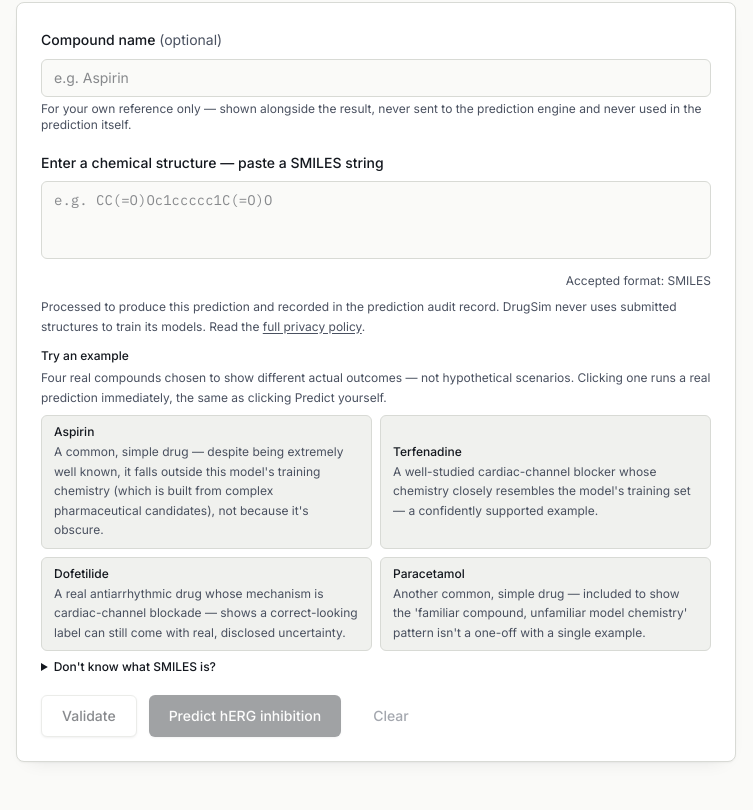
Test: PredictPage › fills in the example's own name when the user hadn't already typed one
(page scrolled)
Click the button with aria-label "A common, simple drug — despite being extremely well known,": x=206, y=482 [41,415,372,548]
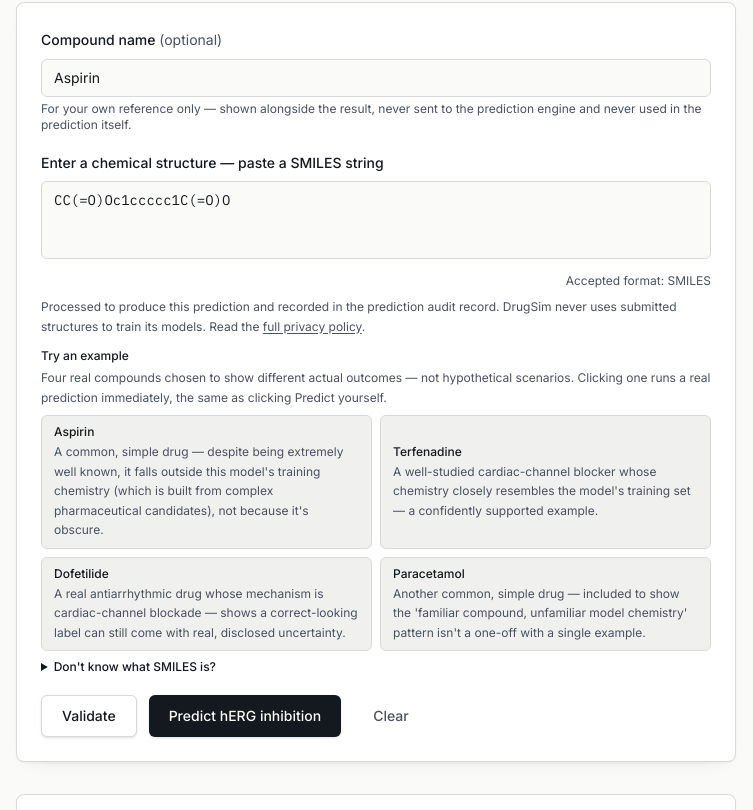
Expected: the field labelled "Compound name (optional)" holds "Aspirin", [41,59,711,97]
